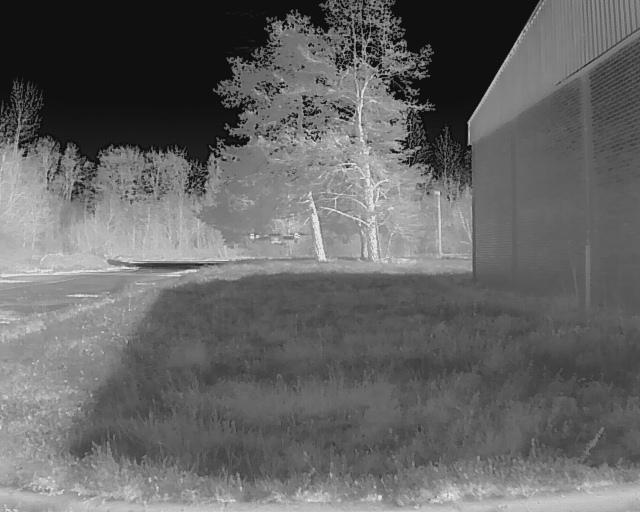drone: (241, 224, 315, 258)
